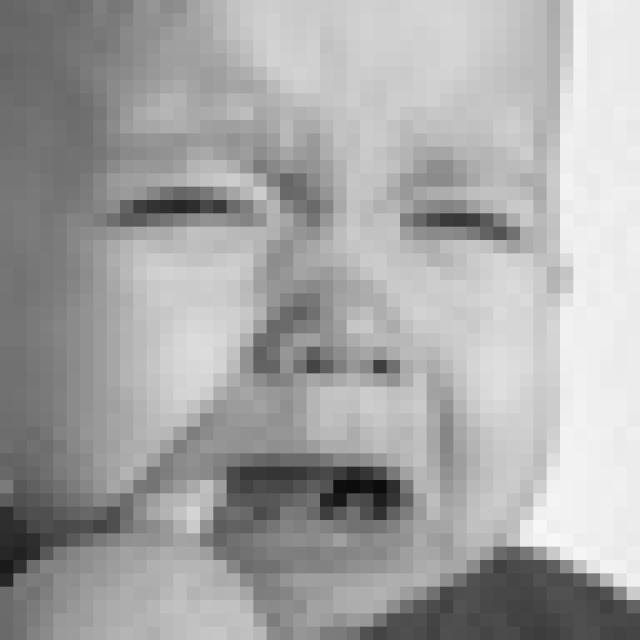sad: (91, 87, 541, 570)
